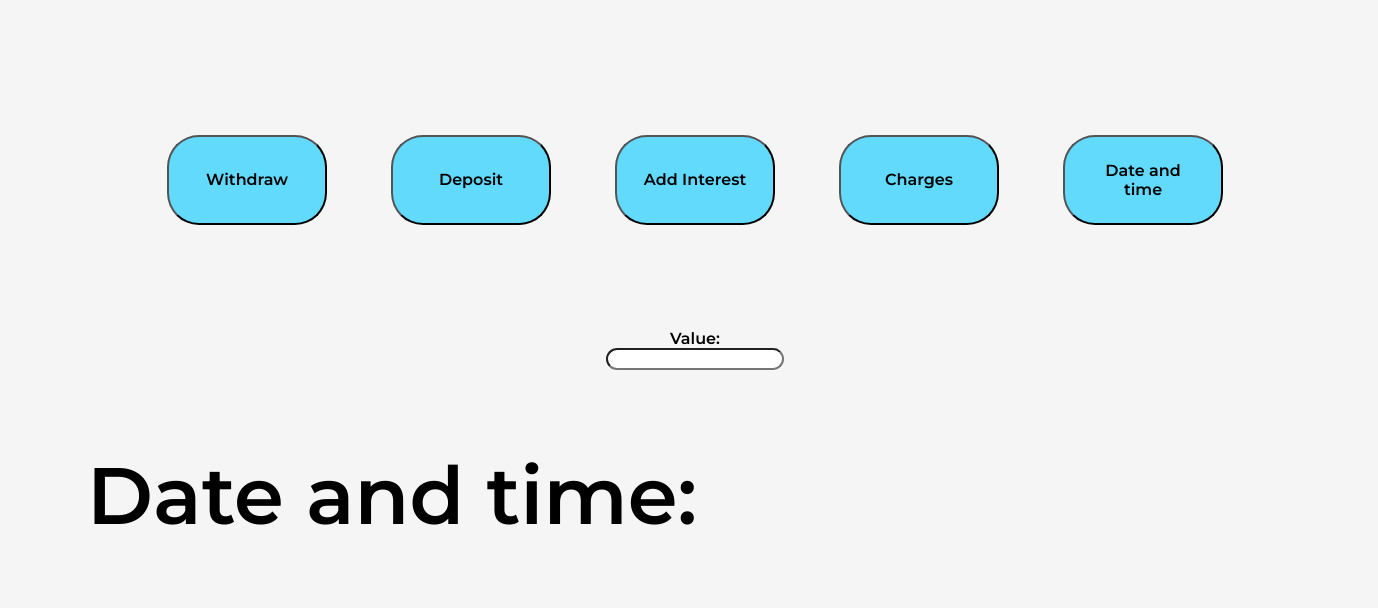
Test: App component › fetch data works correctly
Click the button "Date and time".
click(1143, 180)  # box 1063,134 -> 1223,224
(page scrolled)
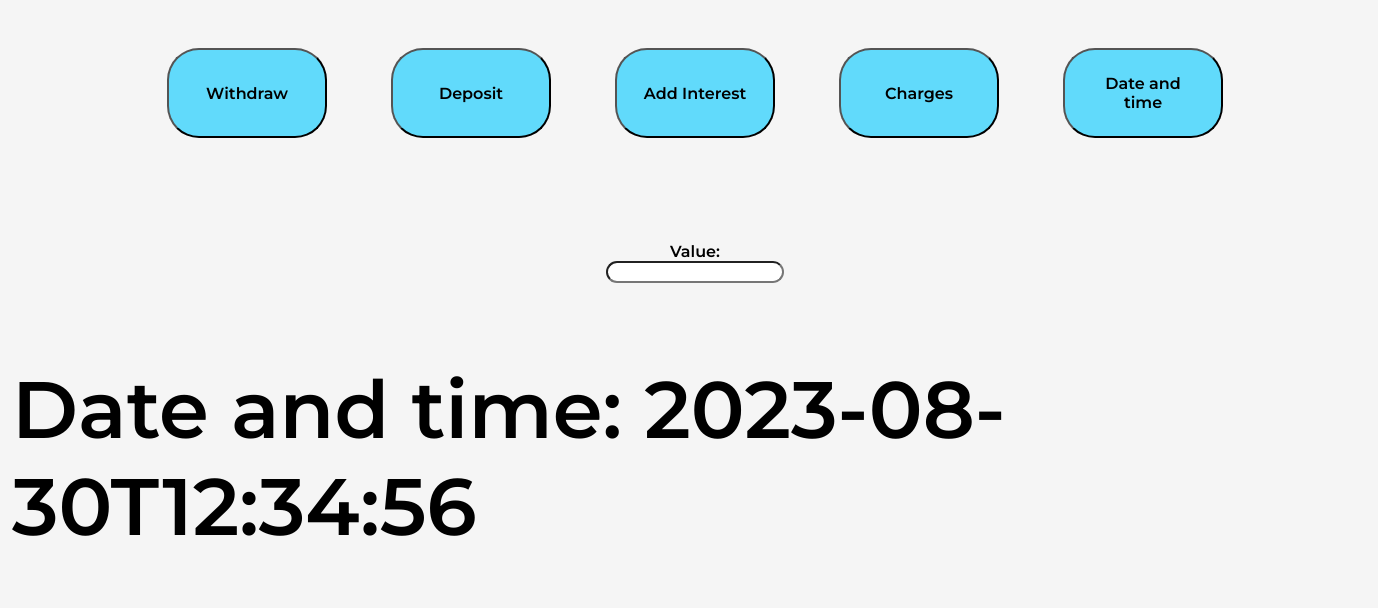
Result: the heading "Date and time: 2023-08-30T12:34:56" is shown at 12,361 -> 1006,555
